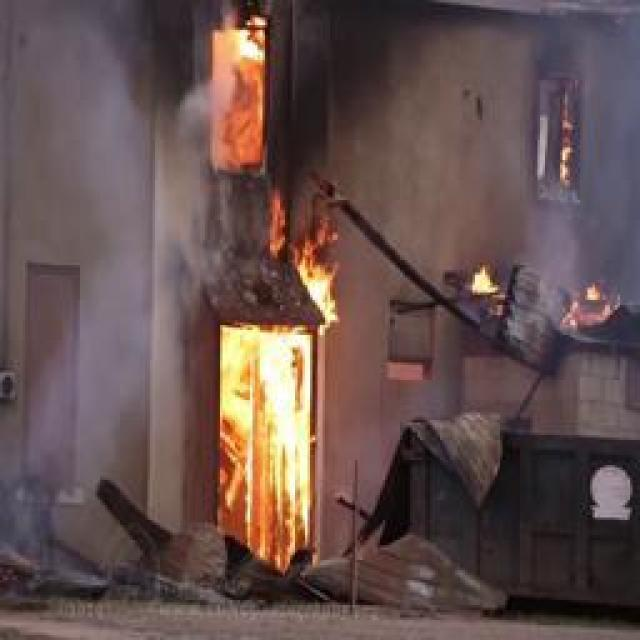Fire: (214, 190, 336, 570), (196, 40, 311, 162), (544, 82, 616, 238), (566, 276, 620, 356), (298, 258, 336, 324), (268, 191, 286, 258), (472, 267, 502, 298)
Smoke: (0, 1, 180, 564)
